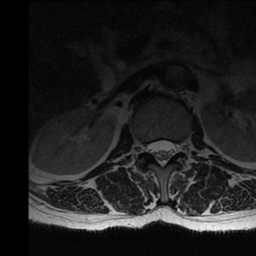CCS_normal: (158, 135, 167, 171)
LFS_normal: (176, 135, 184, 158)
LLS_normal: (166, 135, 176, 162)
RFS_normal: (139, 137, 148, 158)
RLS_normal: (147, 136, 157, 162)
